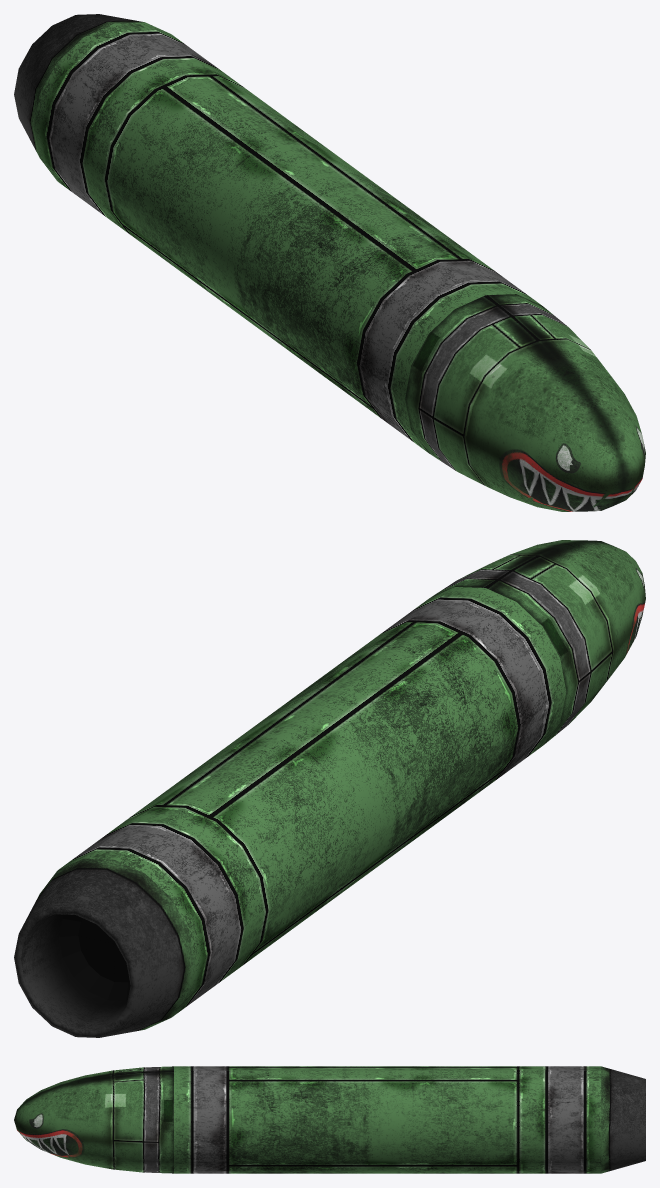
File: uploads_files_3005660_Missile.fbx
3 views of the same model, one above another, from view 1: azimuth 30°, elevation 25°; view 2: azimuth 150°, elevation 25°; view 3: azimuth 270°, elevation 25° (orthographic). The views are drawn at different scales.
Visible parts, largest first — view 1: Sphere.001; view 2: Sphere.001; view 3: Sphere.001.
Boxes of the visible parts, x1,y1,x2,y2 form: Sphere.001: (14,14,645,511); Sphere.001: (14,540,645,1037); Sphere.001: (14,1066,645,1173).
Bounding box in the file's own units: 200 × 200 × 1179.
